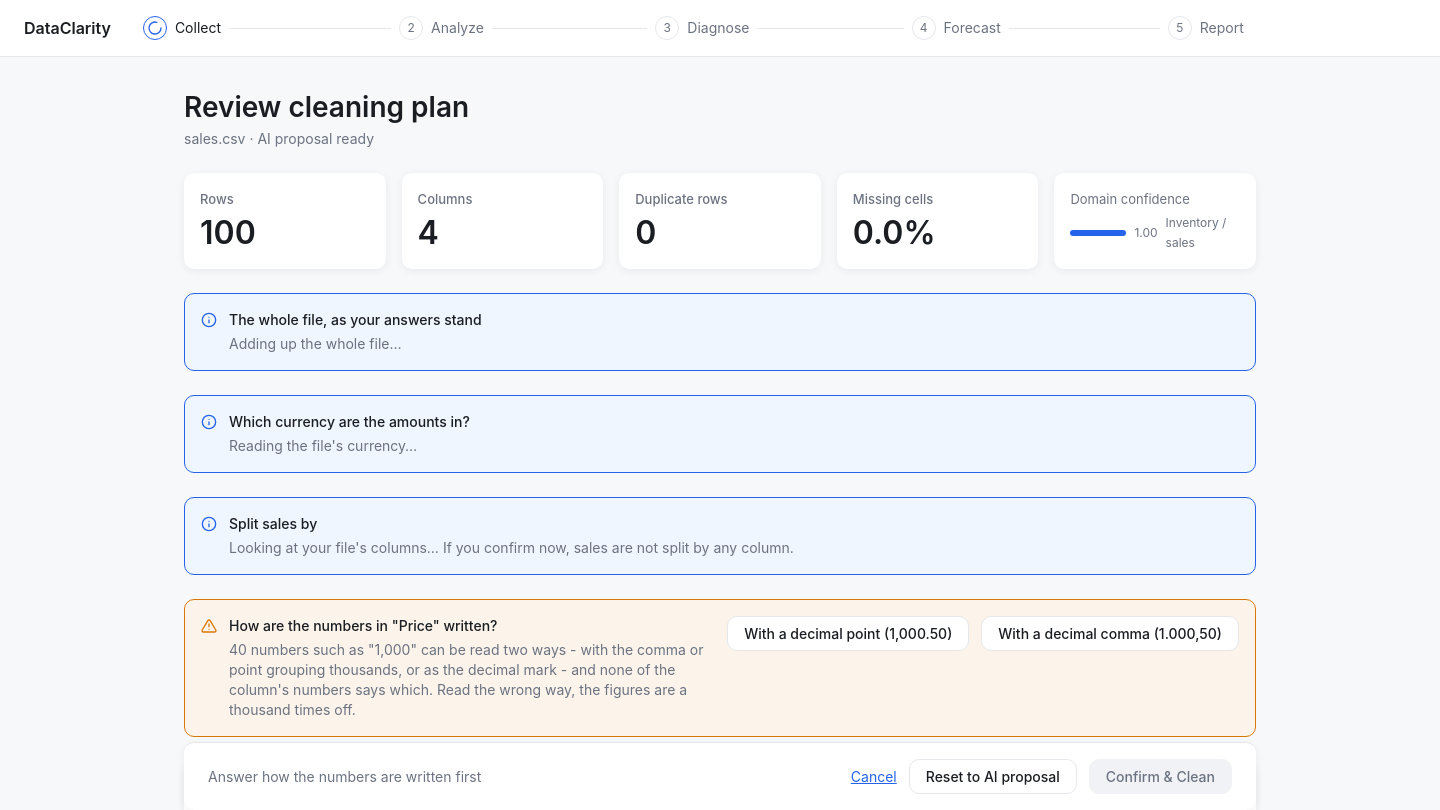
Test: ReviewPage: how the numbers are written › can change the answer
This screenshot has width=1440, height=810.
Click the button "With a decimal point (1,000.50)": click(848, 634) [727,616,969,651]
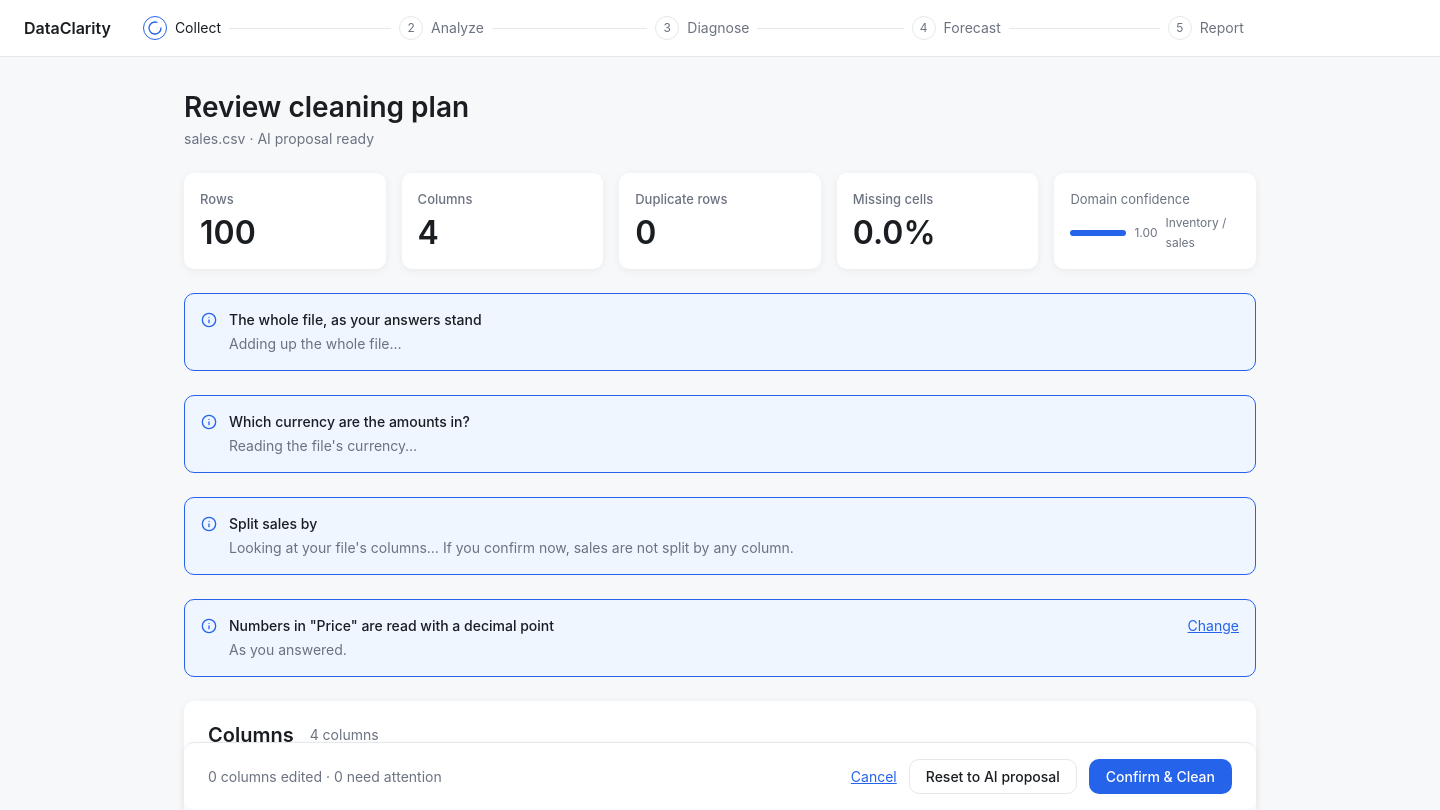
Click the button "Change": click(1213, 626) [1188,616,1239,636]
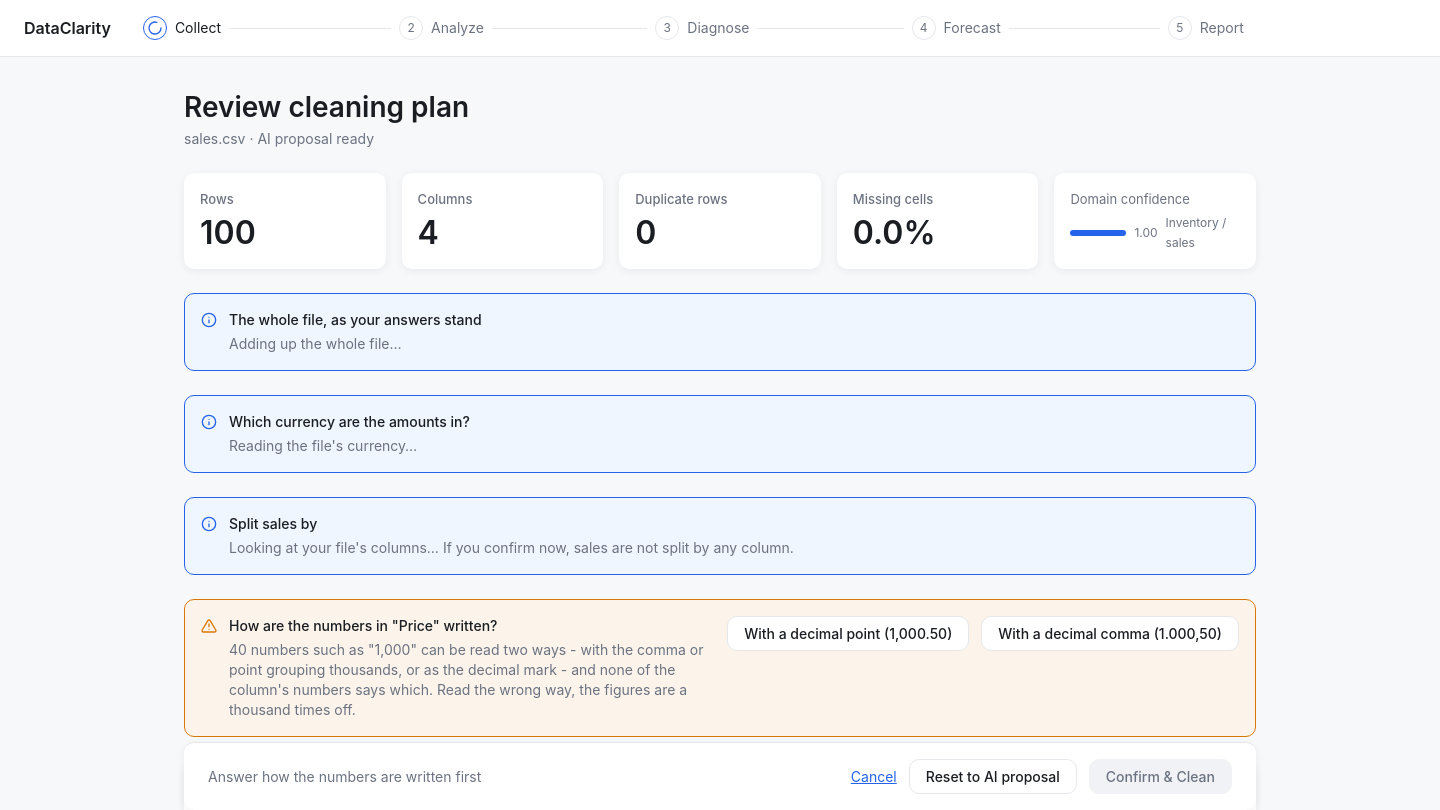
Expected: the text "How are the numbers in \"Price\" written?" is shown, [229,617,498,634]
Expected: the button "Confirm & Clean" is disabled, [1089,759,1232,794]
